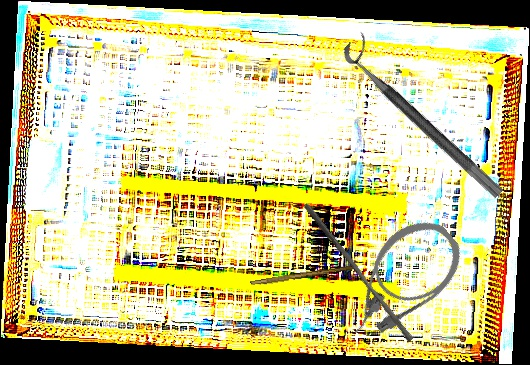Cannula: (323, 206, 475, 353)
Fixation Ring: (338, 30, 517, 200)
Pusher: (297, 202, 419, 343)
Scalpel Handle: (250, 262, 357, 289)
